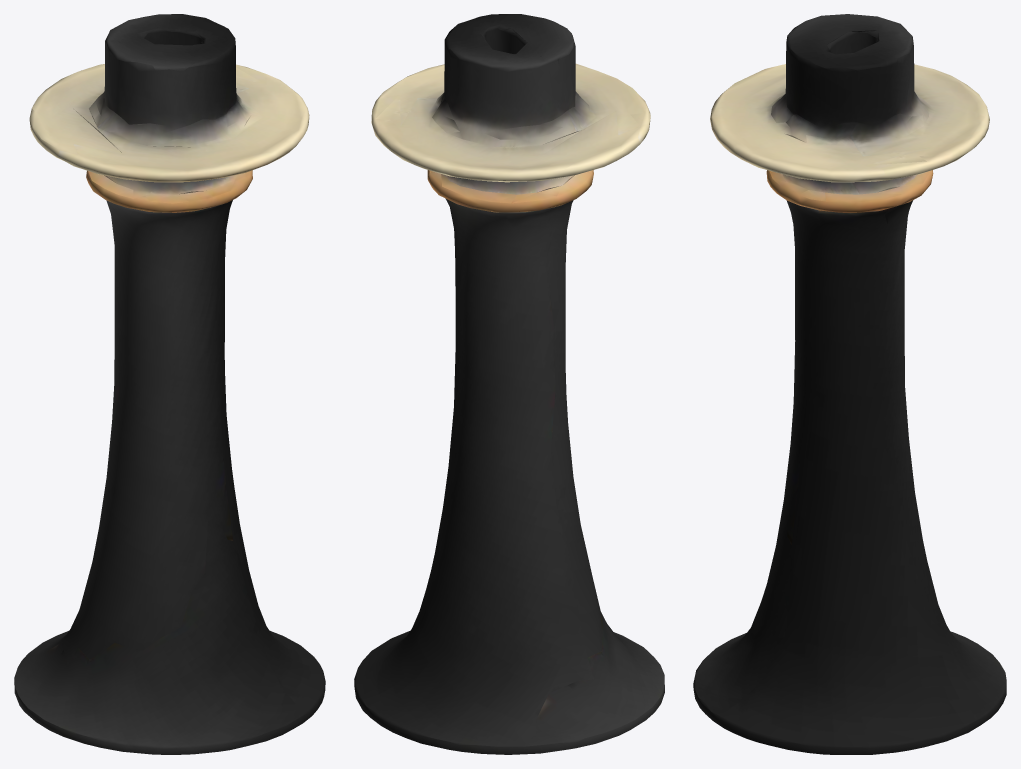
File: m2SciFiSpireBg.glb
3 renders of one model, left to right at view 1: azimuth 30°, elevation 25°; view 2: azimuth 150°, elevation 25°; view 3: azimuth 270°, elevation 25°, orthographic.
Parts seen in each view (by area): view 1: model; view 2: model; view 3: model.
Part boxes in pixels (x1,y1,x2,y2): model: (14, 14, 325, 754); model: (354, 14, 664, 754); model: (693, 14, 1006, 754).
Size of the model in its own units: 0.8228 by 1.89 by 0.8275.
1 material, 1 textured.
